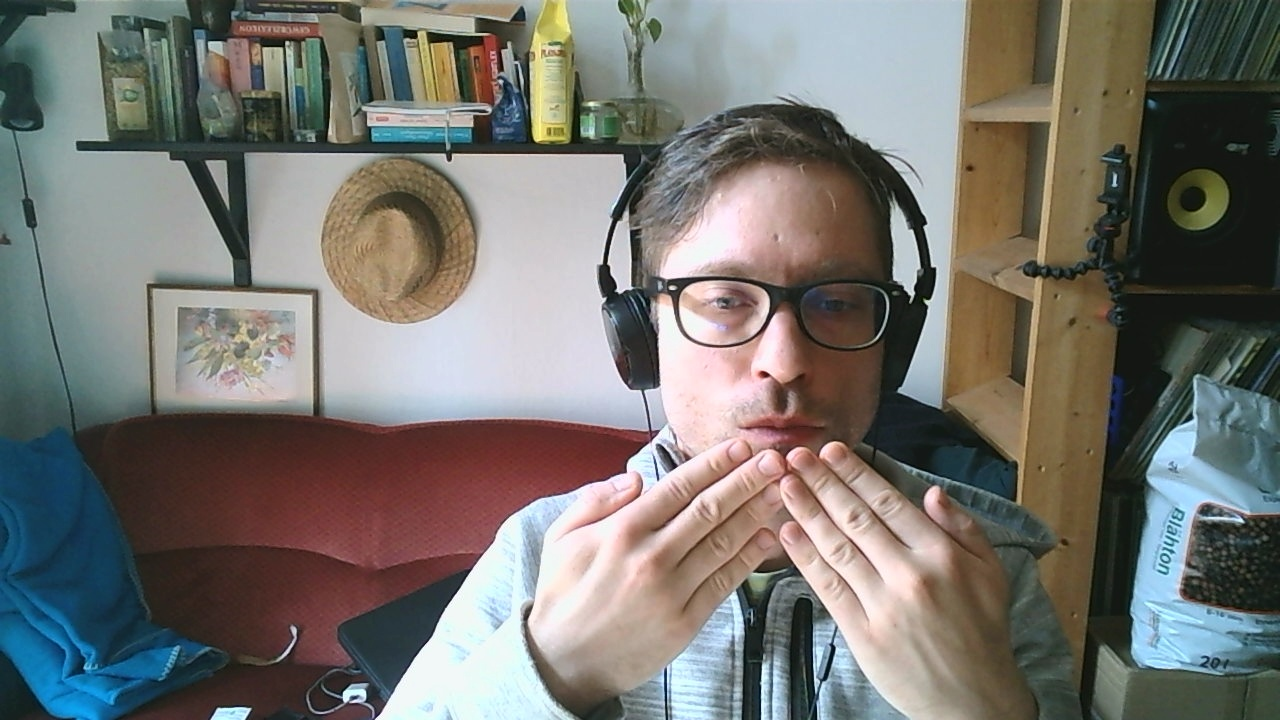thanks: (535, 438, 1011, 708)
